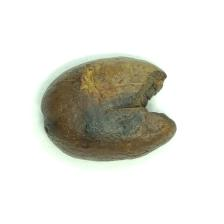NG: (83, 57, 176, 130)
